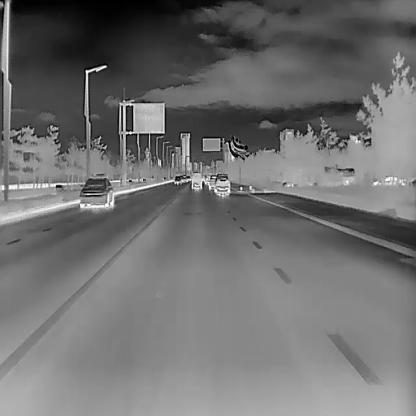car: (78, 173, 113, 208), (213, 172, 230, 195), (190, 172, 201, 190), (208, 175, 215, 189), (204, 174, 212, 184), (173, 174, 181, 184), (179, 174, 187, 183)
